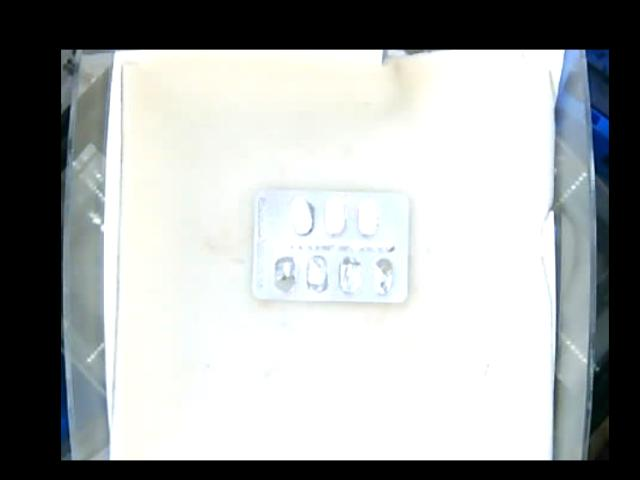Medicine: (251, 189, 411, 300)
